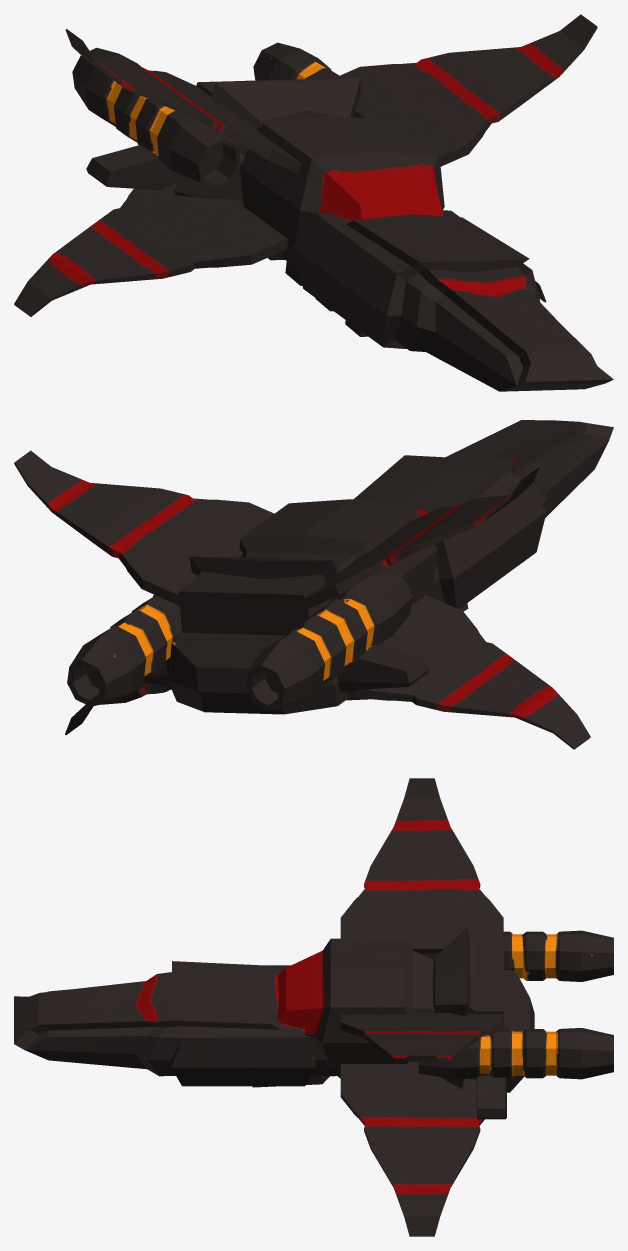
The model's file is Nave1.glb.
3 views of the same model, one above another, from view 1: azimuth 30°, elevation 25°; view 2: azimuth 150°, elevation 25°; view 3: azimuth 270°, elevation 25° (orthographic). The views are drawn at different scales.
Visible parts, largest first — view 1: Cube.001; view 2: Cube.001; view 3: Cube.001.
Boxes of the visible parts, x1=… form: Cube.001: x1=14, y1=14, x2=613, y2=391; Cube.001: x1=14, y1=420, x2=613, y2=749; Cube.001: x1=14, y1=778, x2=613, y2=1236.
Size of the model in its own units: 9.32 by 5.88 by 11.17.
1 material, 1 textured.
